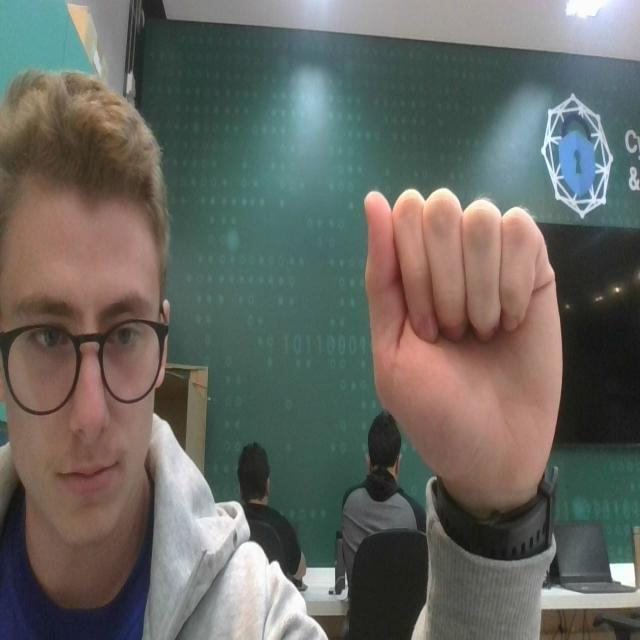A: (353, 174, 581, 558)
